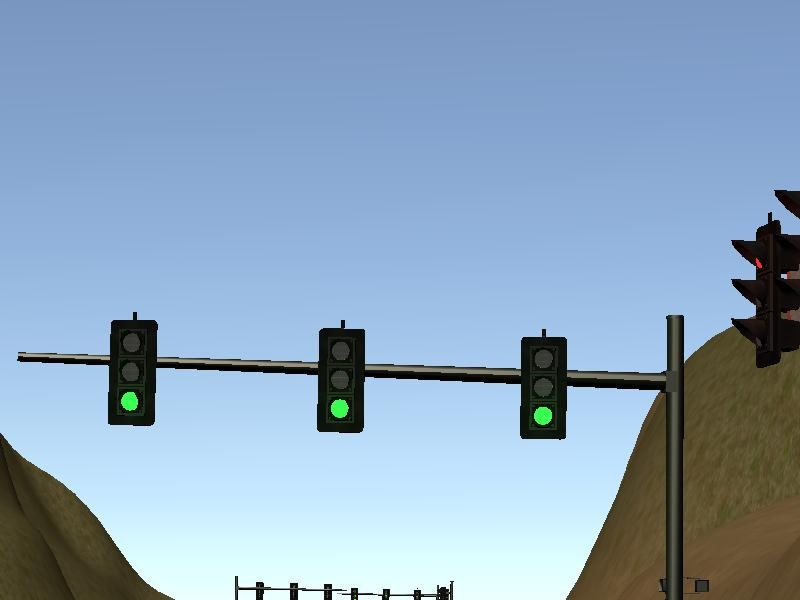GREEN: (109, 318, 161, 427), (315, 324, 364, 435), (519, 337, 567, 442)
